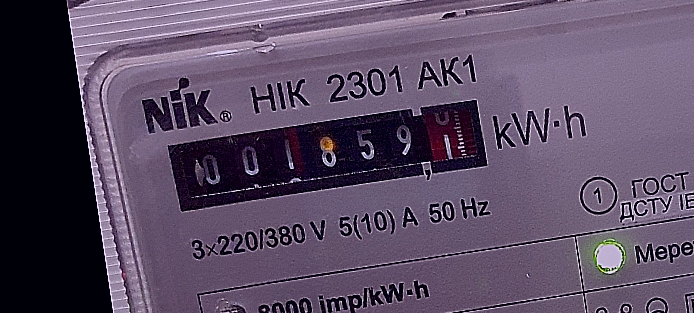0: (198, 149, 223, 187), (237, 141, 261, 177)
1: (280, 134, 296, 171), (438, 128, 455, 160)
5: (353, 123, 378, 161)
8: (315, 131, 339, 168)
9: (391, 120, 415, 156)
screen: (154, 84, 499, 222)
